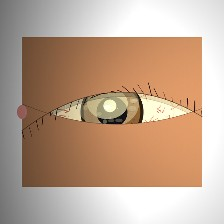corneal_ulcer: (74, 77, 141, 130)
